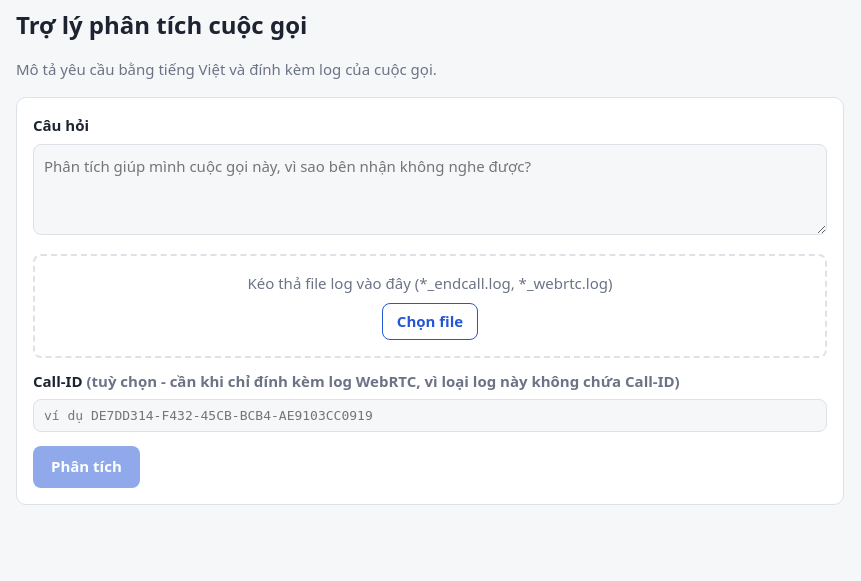
App › shows the fixed refusal for out-of-scope questions and no report
Type "Viết email giúp mình" into the text box labelled "Câu hỏi" at (430, 190), box x1=33 y1=144 x2=827 y2=236
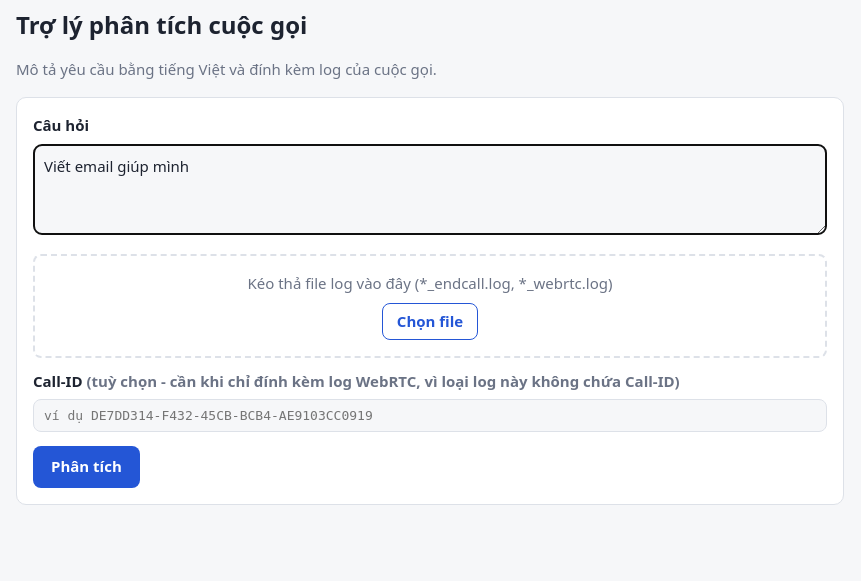
Click the button "Phân tích" at (86, 467), box x1=33 y1=446 x2=140 y2=488
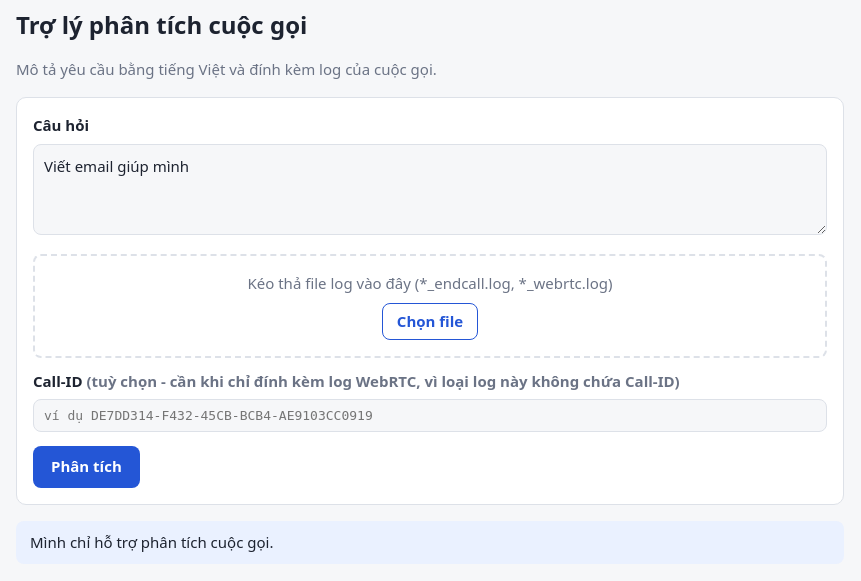
Result: the text "Mình chỉ hỗ trợ phân tích cuộc gọi." is shown at x1=16 y1=521 x2=844 y2=564
